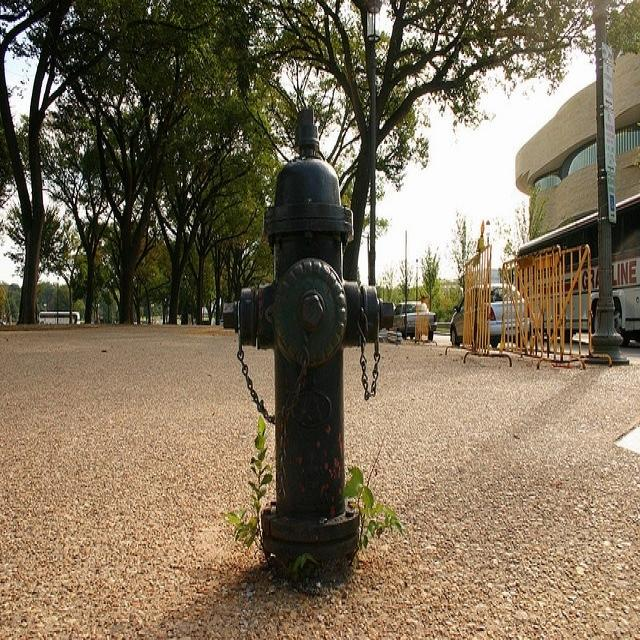fire_hydrant: (241, 141, 395, 562)
